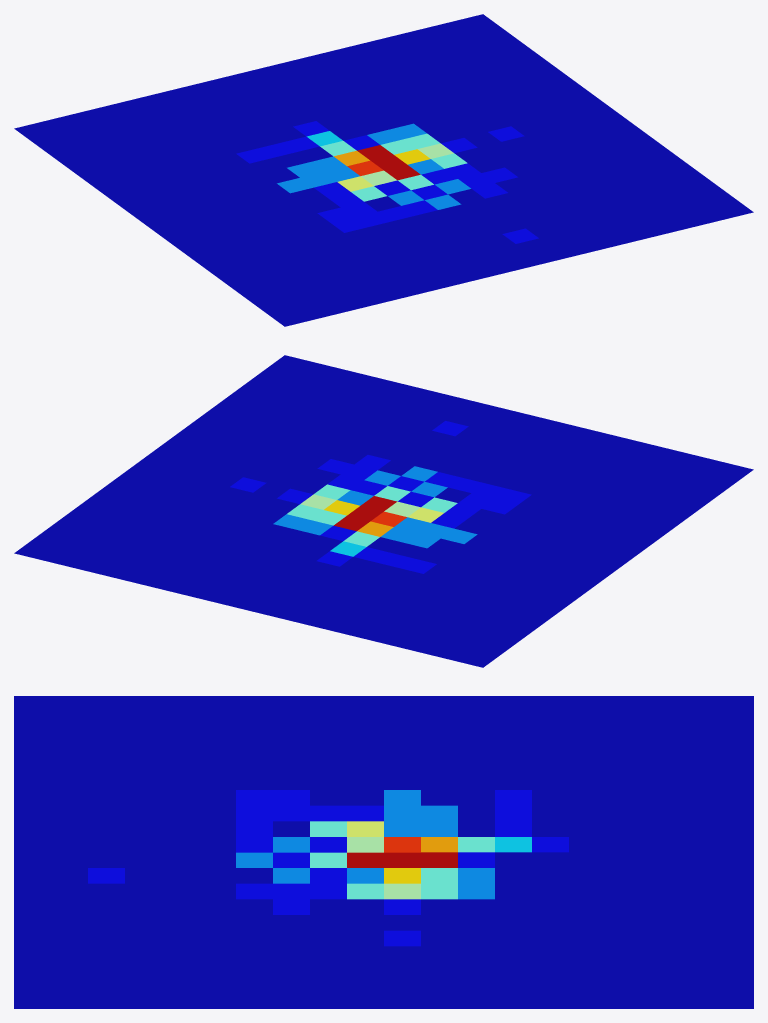
3 views of the same model, one above another, from view 1: azimuth 30°, elevation 25°; view 2: azimuth 150°, elevation 25°; view 3: azimuth 270°, elevation 25° (orthographic). The views are drawn at different scales.
Visible parts, largest first — view 1: output10; view 2: output10; view 3: output10.
Part boxes in pixels (x1,y1,x2,y2): output10: [14, 14, 753, 326]; output10: [14, 355, 753, 667]; output10: [14, 696, 753, 1008].
Bounding box in the file's own units: 20 × 3.37e-06 × 20.
